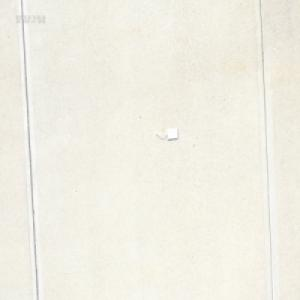LuggageTag: (154, 125, 178, 142)
